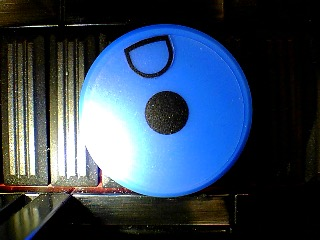BOHOMIPO1: (77, 23, 252, 198)
